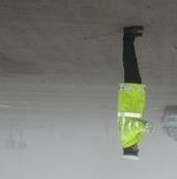person: (116, 25, 153, 159)
